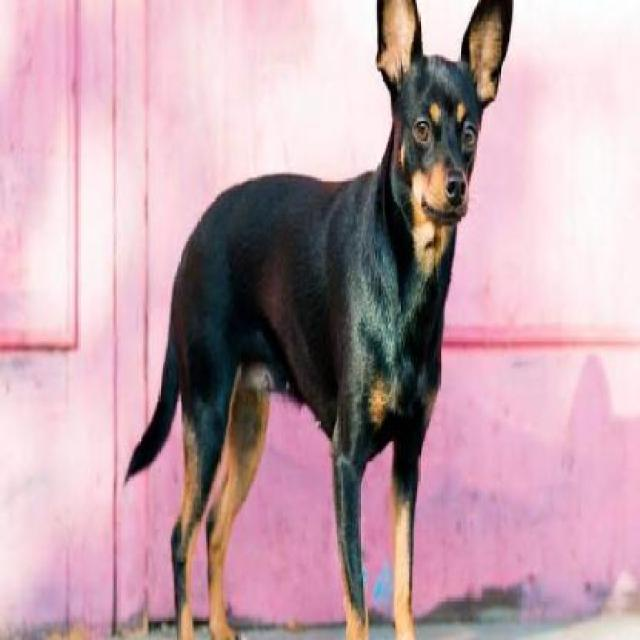animals: (129, 3, 540, 640)
